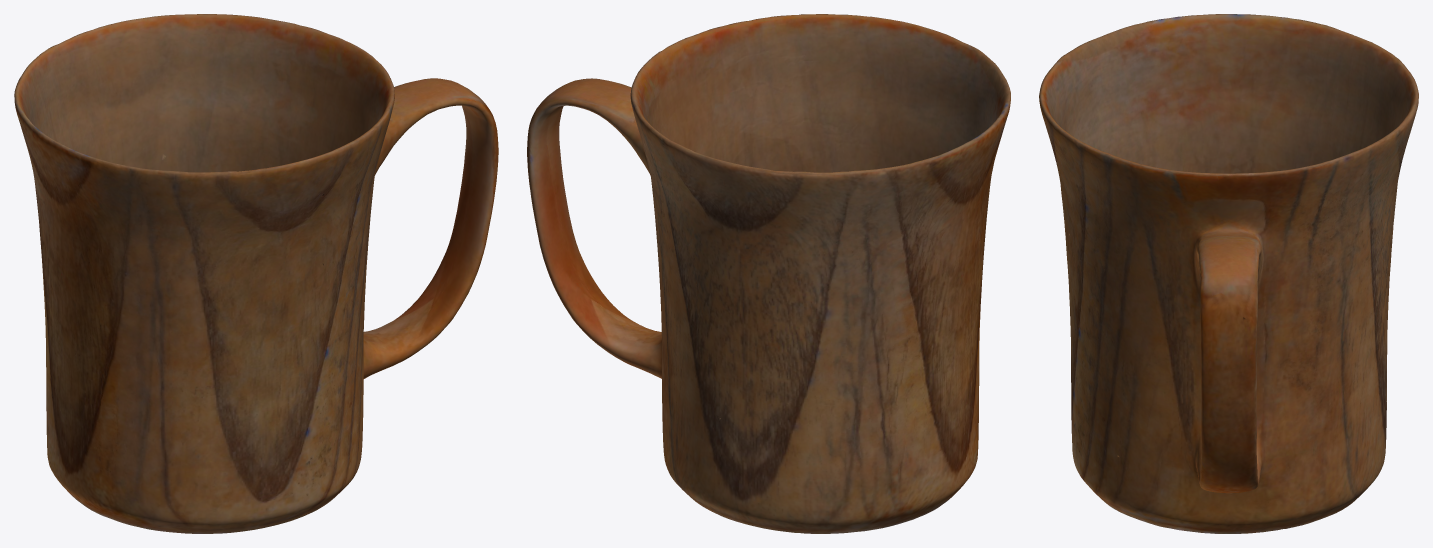
The model's file is model_from_local_image.glb.
The picture shows the model from 3 angles, left to right: view 1: azimuth 30°, elevation 25°; view 2: azimuth 150°, elevation 25°; view 3: azimuth 270°, elevation 25°; orthographic projection.
Visible parts, largest first — view 1: file1; view 2: file1; view 3: file1.
Boxes of the visible parts, <box> form: file1: <box>14,14,498,533</box>; file1: <box>527,14,1010,533</box>; file1: <box>1039,14,1418,533</box>.
Size of the model in its own units: 2 by 1.63 by 1.47.
Materials: 1 (1 with a texture image).
